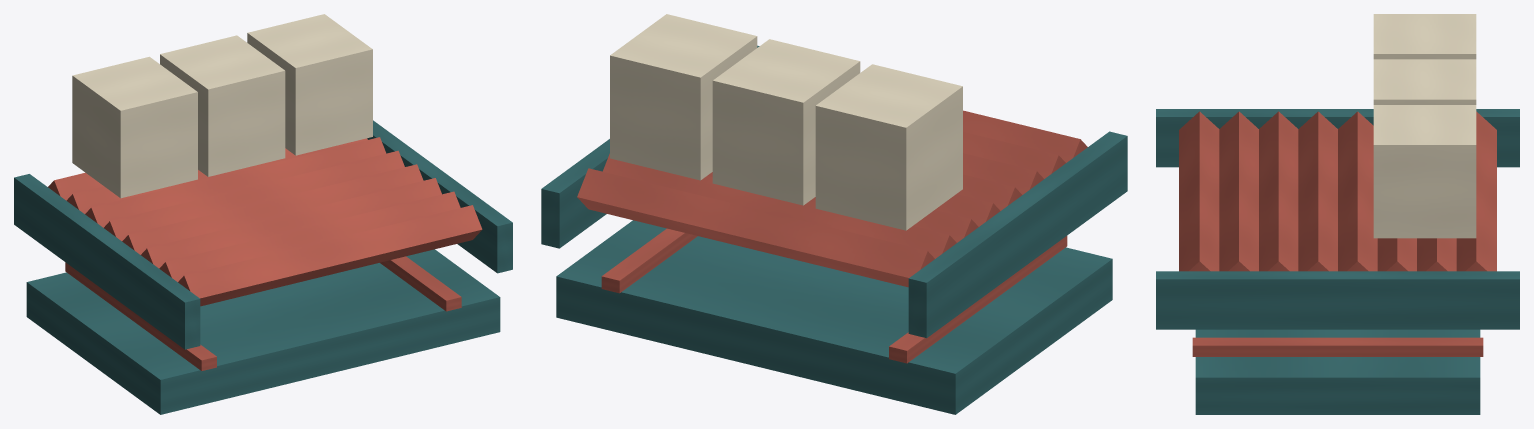
File: atlas100-s039-a02.lod2.glb
3 views of the same model, side by side, from view 1: azimuth 30°, elevation 25°; view 2: azimuth 150°, elevation 25°; view 3: azimuth 270°, elevation 25° (orthographic). The views are drawn at different scales.
Parts seen in each view (by area): view 1: atlas100-s039-a02:part-000, atlas100-s039-a02:part-013, atlas100-s039-a02:part-017, atlas100-s039-a02:part-015, atlas100-s039-a02:part-011, atlas100-s039-a02:part-010, atlas100-s039-a02:part-005, atlas100-s039-a02:part-007, atlas100-s039-a02:part-009, atlas100-s039-a02:part-006, atlas100-s039-a02:part-008, atlas100-s039-a02:part-012 (+4 smaller); view 2: atlas100-s039-a02:part-000, atlas100-s039-a02:part-013, atlas100-s039-a02:part-015, atlas100-s039-a02:part-017, atlas100-s039-a02:part-011, atlas100-s039-a02:part-003, atlas100-s039-a02:part-004, atlas100-s039-a02:part-012, atlas100-s039-a02:part-010, atlas100-s039-a02:part-001, atlas100-s039-a02:part-002, atlas100-s039-a02:part-009 (+4 smaller); view 3: atlas100-s039-a02:part-012, atlas100-s039-a02:part-000, atlas100-s039-a02:part-017, atlas100-s039-a02:part-010, atlas100-s039-a02:part-007, atlas100-s039-a02:part-008, atlas100-s039-a02:part-009, atlas100-s039-a02:part-002, atlas100-s039-a02:part-006, atlas100-s039-a02:part-011, atlas100-s039-a02:part-015, atlas100-s039-a02:part-013 (+3 smaller).
Part boxes in pixels (left/top/right/bottom): atlas100-s039-a02:part-000: left=26, top=249, right=500, bottom=414; atlas100-s039-a02:part-013: left=72, top=56, right=197, bottom=198; atlas100-s039-a02:part-017: left=247, top=14, right=372, bottom=155; atlas100-s039-a02:part-015: left=160, top=35, right=285, bottom=176; atlas100-s039-a02:part-011: left=14, top=174, right=200, bottom=349; atlas100-s039-a02:part-010: left=178, top=205, right=482, bottom=306; atlas100-s039-a02:part-005: left=85, top=137, right=386, bottom=227; atlas100-s039-a02:part-007: left=122, top=164, right=423, bottom=254; atlas100-s039-a02:part-009: left=159, top=191, right=460, bottom=281; atlas100-s039-a02:part-006: left=104, top=150, right=404, bottom=240; atlas100-s039-a02:part-008: left=141, top=178, right=441, bottom=268; atlas100-s039-a02:part-012: left=367, top=120, right=512, bottom=273; atlas100-s039-a02:part-000: left=556, top=220, right=1112, bottom=414; atlas100-s039-a02:part-013: left=815, top=64, right=962, bottom=230; atlas100-s039-a02:part-015: left=712, top=39, right=860, bottom=205; atlas100-s039-a02:part-017: left=610, top=14, right=757, bottom=180; atlas100-s039-a02:part-011: left=908, top=131, right=1127, bottom=338; atlas100-s039-a02:part-003: left=577, top=168, right=934, bottom=287; atlas100-s039-a02:part-004: left=602, top=153, right=956, bottom=258; atlas100-s039-a02:part-012: left=541, top=45, right=759, bottom=248; atlas100-s039-a02:part-010: left=963, top=110, right=1087, bottom=162; atlas100-s039-a02:part-001: left=889, top=236, right=1067, bottom=363; atlas100-s039-a02:part-002: left=601, top=228, right=697, bottom=293; atlas100-s039-a02:part-009: left=963, top=132, right=1065, bottom=178; atlas100-s039-a02:part-012: left=1156, top=271, right=1519, bottom=329; atlas100-s039-a02:part-000: left=1195, top=329, right=1480, bottom=414; atlas100-s039-a02:part-017: left=1373, top=105, right=1476, bottom=238; atlas100-s039-a02:part-010: left=1179, top=111, right=1219, bottom=271; atlas100-s039-a02:part-007: left=1298, top=111, right=1337, bottom=271; atlas100-s039-a02:part-008: left=1259, top=111, right=1298, bottom=271; atlas100-s039-a02:part-009: left=1219, top=111, right=1258, bottom=271; atlas100-s039-a02:part-002: left=1192, top=337, right=1483, bottom=356; atlas100-s039-a02:part-006: left=1338, top=111, right=1377, bottom=271; atlas100-s039-a02:part-011: left=1156, top=109, right=1519, bottom=167; atlas100-s039-a02:part-015: left=1373, top=59, right=1476, bottom=104; atlas100-s039-a02:part-013: left=1373, top=14, right=1476, bottom=59.
Bounding box in the file's own units: 2.64 × 1.73 × 2.3.
3 materials, 3 textured.
